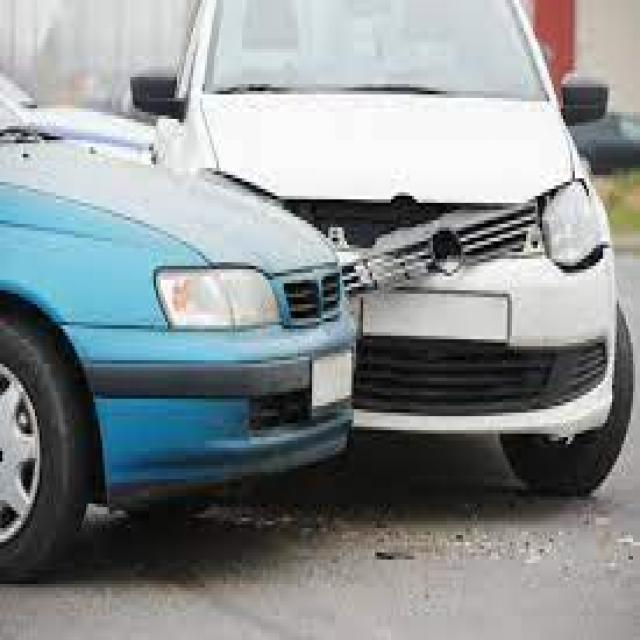accident: (0, 54, 565, 502)
